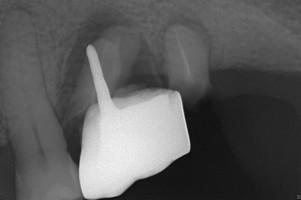Dental Caries: (56, 8, 136, 113), (124, 35, 168, 88)
Furcation Involvement: (155, 14, 213, 63)
